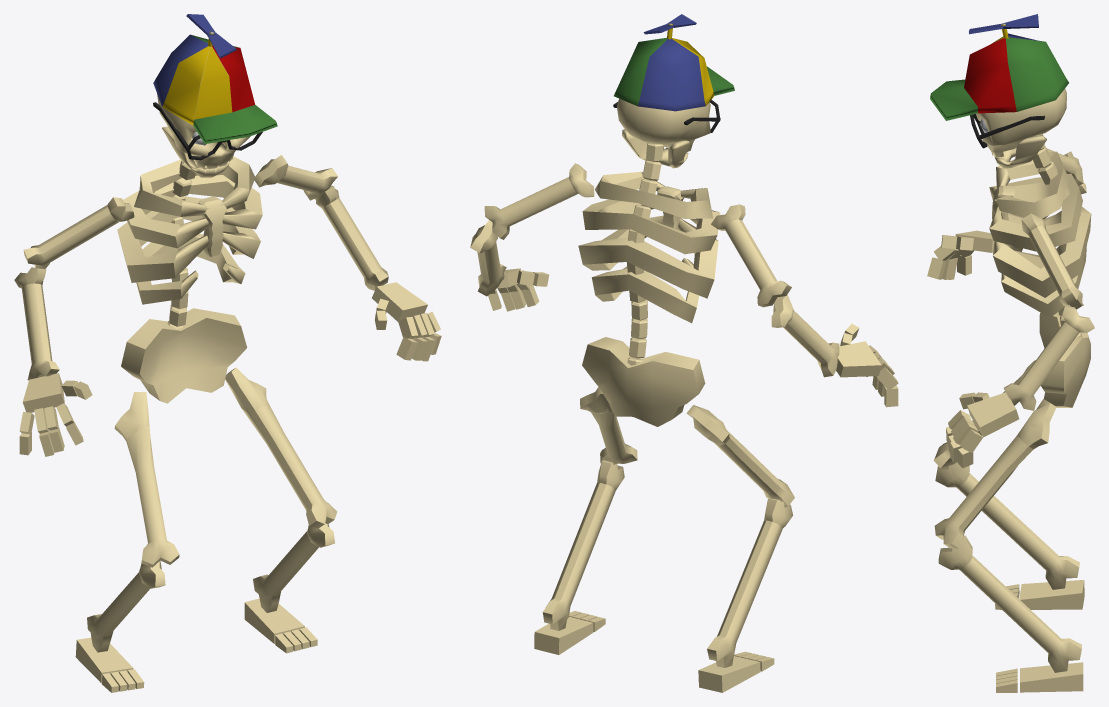
The model's file is skeleton_PROPELLER_frame02.fbx.
3 views of the same model, side by side, from view 1: azimuth 30°, elevation 25°; view 2: azimuth 150°, elevation 25°; view 3: azimuth 270°, elevation 25° (orthographic). The views are drawn at different scales.
Visible parts, largest first — view 1: silly_hat_hat1; view 2: silly_hat_hat1; view 3: silly_hat_hat1.
Part boxes in pixels (x1,y1,x2,y2): silly_hat_hat1: (14, 14, 441, 692); silly_hat_hat1: (470, 14, 898, 692); silly_hat_hat1: (927, 14, 1094, 692).
Size of the model in its own units: 119 by 173 by 41.84.
